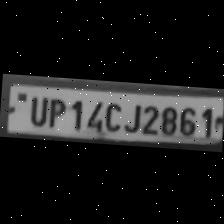1: (65, 94, 85, 128), (198, 104, 218, 137)
2: (138, 100, 160, 134)
4: (83, 96, 103, 130)
6: (175, 102, 198, 136)
8: (158, 102, 177, 134)
C: (101, 97, 121, 131)
J: (121, 99, 141, 132)
P: (44, 94, 66, 128)
U: (24, 92, 48, 125)
